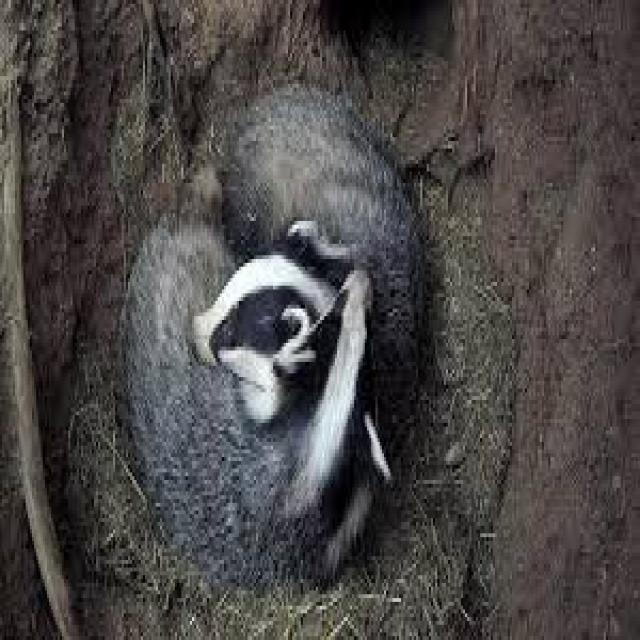Badger: (126, 73, 426, 564)
